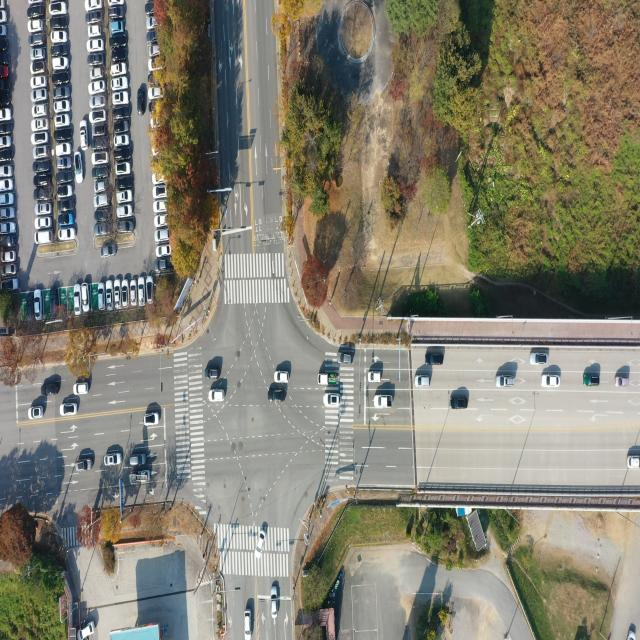car: (35, 232, 53, 246), (375, 394, 393, 408)
small_truck: (128, 471, 152, 486), (317, 372, 337, 386)
